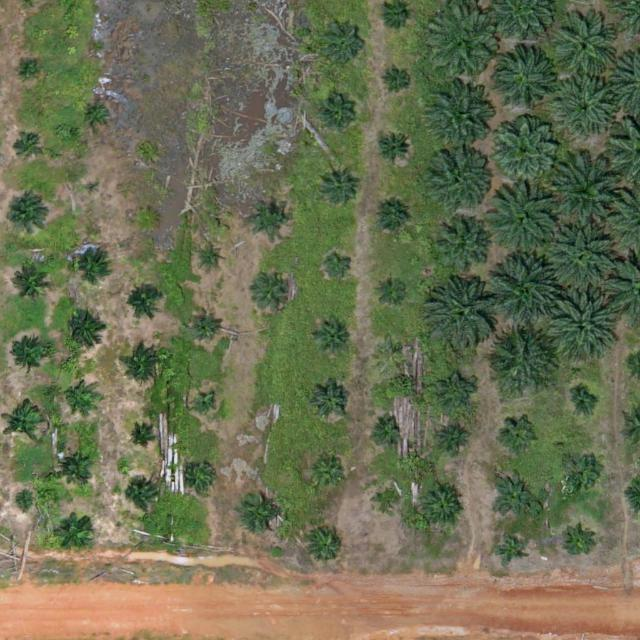Kelapa_Sawit: (548, 153, 626, 231), (422, 274, 500, 352), (545, 221, 615, 292), (489, 186, 559, 257), (488, 115, 558, 186), (423, 84, 493, 155), (428, 10, 498, 81), (544, 289, 614, 359), (490, 252, 560, 322), (484, 324, 554, 394), (554, 18, 616, 81), (427, 145, 489, 208), (555, 76, 617, 138), (495, 47, 557, 109), (434, 218, 489, 273), (6, 337, 52, 384), (3, 195, 49, 242), (8, 258, 54, 305), (237, 488, 283, 535), (1, 401, 47, 448), (320, 17, 366, 63), (418, 482, 464, 528), (491, 471, 537, 517), (256, 270, 295, 309), (250, 198, 289, 237), (71, 243, 110, 282), (57, 511, 96, 550), (56, 446, 95, 485), (318, 97, 357, 136), (311, 315, 350, 354), (311, 381, 350, 420), (306, 526, 345, 565), (558, 452, 597, 491), (306, 452, 345, 491), (374, 128, 413, 167), (125, 344, 163, 383), (124, 281, 162, 320), (65, 310, 104, 348), (318, 166, 356, 205), (436, 373, 474, 412), (501, 416, 539, 455), (372, 198, 410, 237), (62, 378, 93, 409), (125, 480, 156, 511), (188, 460, 219, 491), (562, 529, 593, 560), (440, 422, 471, 453), (495, 534, 526, 565), (376, 272, 407, 303), (375, 332, 406, 363), (369, 413, 400, 444), (371, 485, 402, 516), (323, 248, 354, 279), (189, 309, 220, 340), (381, 65, 412, 96), (83, 99, 114, 130), (11, 132, 42, 163), (571, 392, 594, 415), (200, 245, 223, 268), (194, 394, 217, 417), (128, 426, 151, 449), (12, 490, 35, 513), (135, 208, 158, 231), (20, 60, 35, 76), (85, 179, 100, 194)
